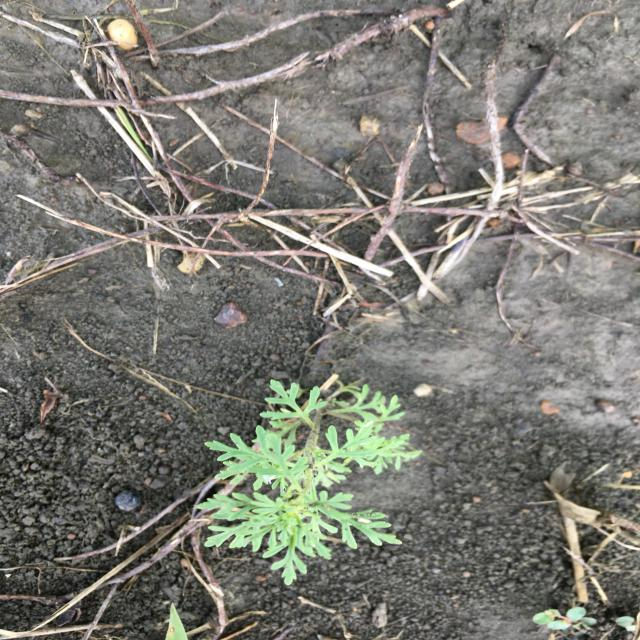Ragweed: (192, 375, 428, 587)
SpottedSpurge: (532, 606, 638, 638)
